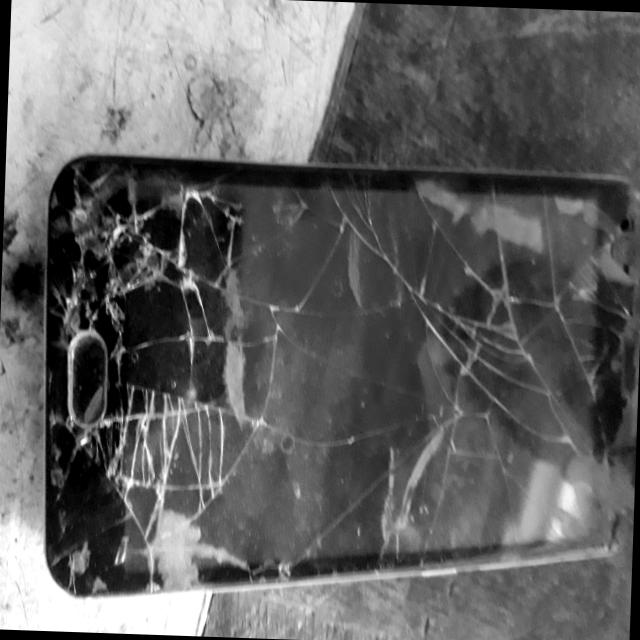Crack: (23, 137, 640, 607)
